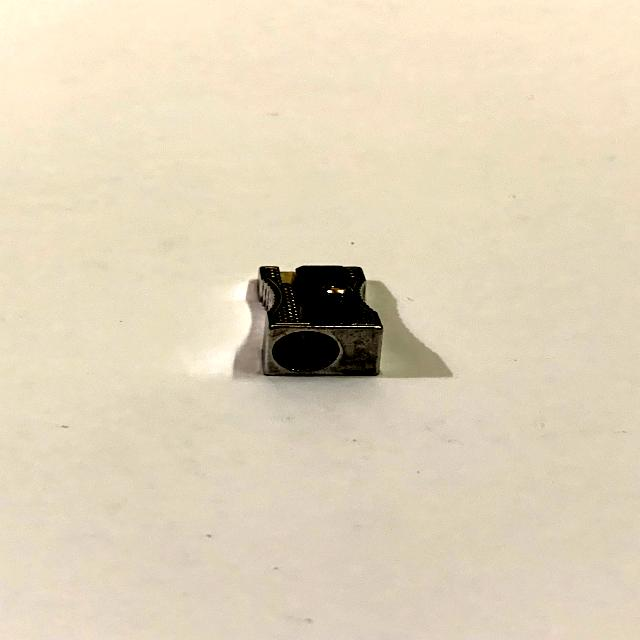Sharpner: (233, 245, 413, 389)
